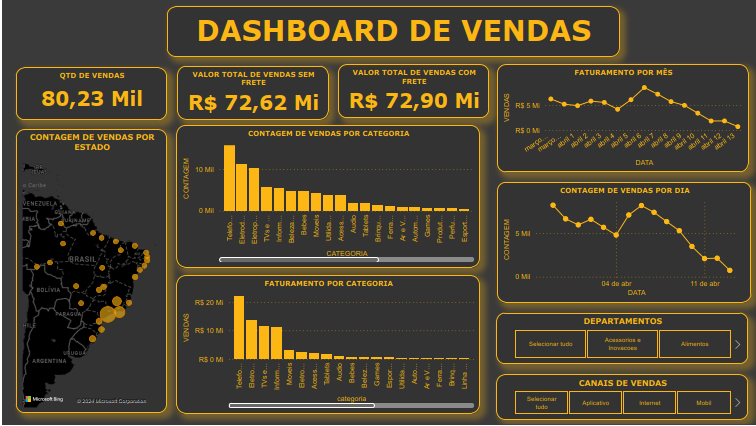

This screenshot's page, from the dashboard's own definition file:
{"tool":"powerbi","page":{"name":"VISÃODE COMPRAS","canvas":[1280,720],"ordinal":0},"visuals":[{"type":"card","title":"QTD DE VENDAS","fields":{"Values":["CountNonNull(base compra.idcompra)"]},"box":[23.4,114.2,256,89.5],"z":0},{"type":"card","title":"VALOR TOTAL DE VENDAS SEM FRETE","fields":{"Values":["Sum(base compra.Preço)"]},"box":[296.7,111.6,256,90.8],"z":1000},{"type":"card","title":"VALOR TOTAL DE VENDAS COM FRETE","fields":{"Values":["Sum(base compra.Preço_com_frete)"]},"box":[570,108.6,256.2,91.2],"z":2000},{"type":"textbox","box":[279.4,11,768,85.3],"z":3000},{"type":"lineChart","title":"CONTAGEM  DE VENDAS POR DIA","fields":{"Y":["CountNonNull(base compra.idcompra)"],"Category":["base compra.Data"]},"box":[840,308.8,431.2,203.8],"z":4000},{"type":"lineChart","title":"FATURAMENTO POR MÊS","fields":{"Y":["Sum(base compra.Preço_com_frete)"],"Category":["base compra.Data.Variation.Hierarquia de datas.Mês","base compra.Data.Variation.Hierarquia de datas.Dia"]},"box":[840,108.8,426.2,182.5],"z":5000},{"type":"columnChart","title":"CONTAGEM DE VENDAS POR CATEGORIA","fields":{"Category":["base compra.Nome_Departamento"],"Y":["CountNonNull(base compra.idcompra)"]},"box":[296.2,212.5,513.8,241.2],"z":6000},{"type":"map","title":"CONTAGEM DE VENDAS POR ESTADO","fields":{"Category":["base compra.estado"],"Size":["CountNonNull(base compra.idcompra)"]},"box":[23.8,218.8,256.2,481.2],"z":7000},{"type":"slicer","title":"CANAIS DE VENDAS","fields":{"Values":["base compra.idcanalvenda"]},"box":[838.2,635,426.7,77.3],"z":8000},{"type":"slicer","title":"DEPARTAMENTOS","fields":{"Values":["base compra.Nome_Departamento"]},"box":[838.2,530.1,426.7,87.3],"z":9000},{"type":"columnChart","title":"FATURAMENTO POR CATEGORIA","fields":{"Category":["base compra.Nome_Departamento"],"Y":["Sum(base compra.Preço_com_frete)"]},"box":[296.2,466.2,513.8,233.8],"z":10000}]}

Visuals, with their boxes in screenshot pixels (x1, y1, x2, y2), scaled from the page's 1280x720 canvas onto the 756x426 screenshot:
"QTD DE VENDAS" card: box(14, 68, 165, 121)
"VALOR TOTAL DE VENDAS SEM FRETE" card: box(175, 66, 326, 120)
"VALOR TOTAL DE VENDAS COM FRETE" card: box(337, 64, 488, 118)
textbox: box(165, 7, 619, 57)
"CONTAGEM  DE VENDAS POR DIA" lineChart: box(496, 183, 751, 303)
"FATURAMENTO POR MÊS" lineChart: box(496, 64, 748, 172)
"CONTAGEM DE VENDAS POR CATEGORIA" columnChart: box(175, 126, 478, 268)
"CONTAGEM DE VENDAS POR ESTADO" map: box(14, 129, 165, 414)
"CANAIS DE VENDAS" slicer: box(495, 376, 747, 421)
"DEPARTAMENTOS" slicer: box(495, 314, 747, 365)
"FATURAMENTO POR CATEGORIA" columnChart: box(175, 276, 478, 414)
